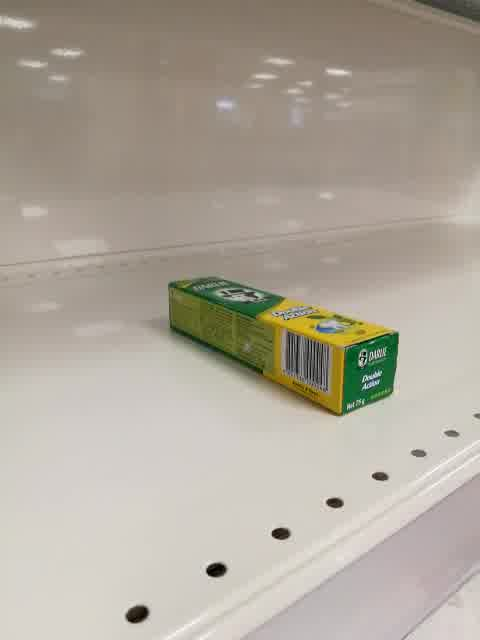toothpaste: (168, 277, 400, 417)
